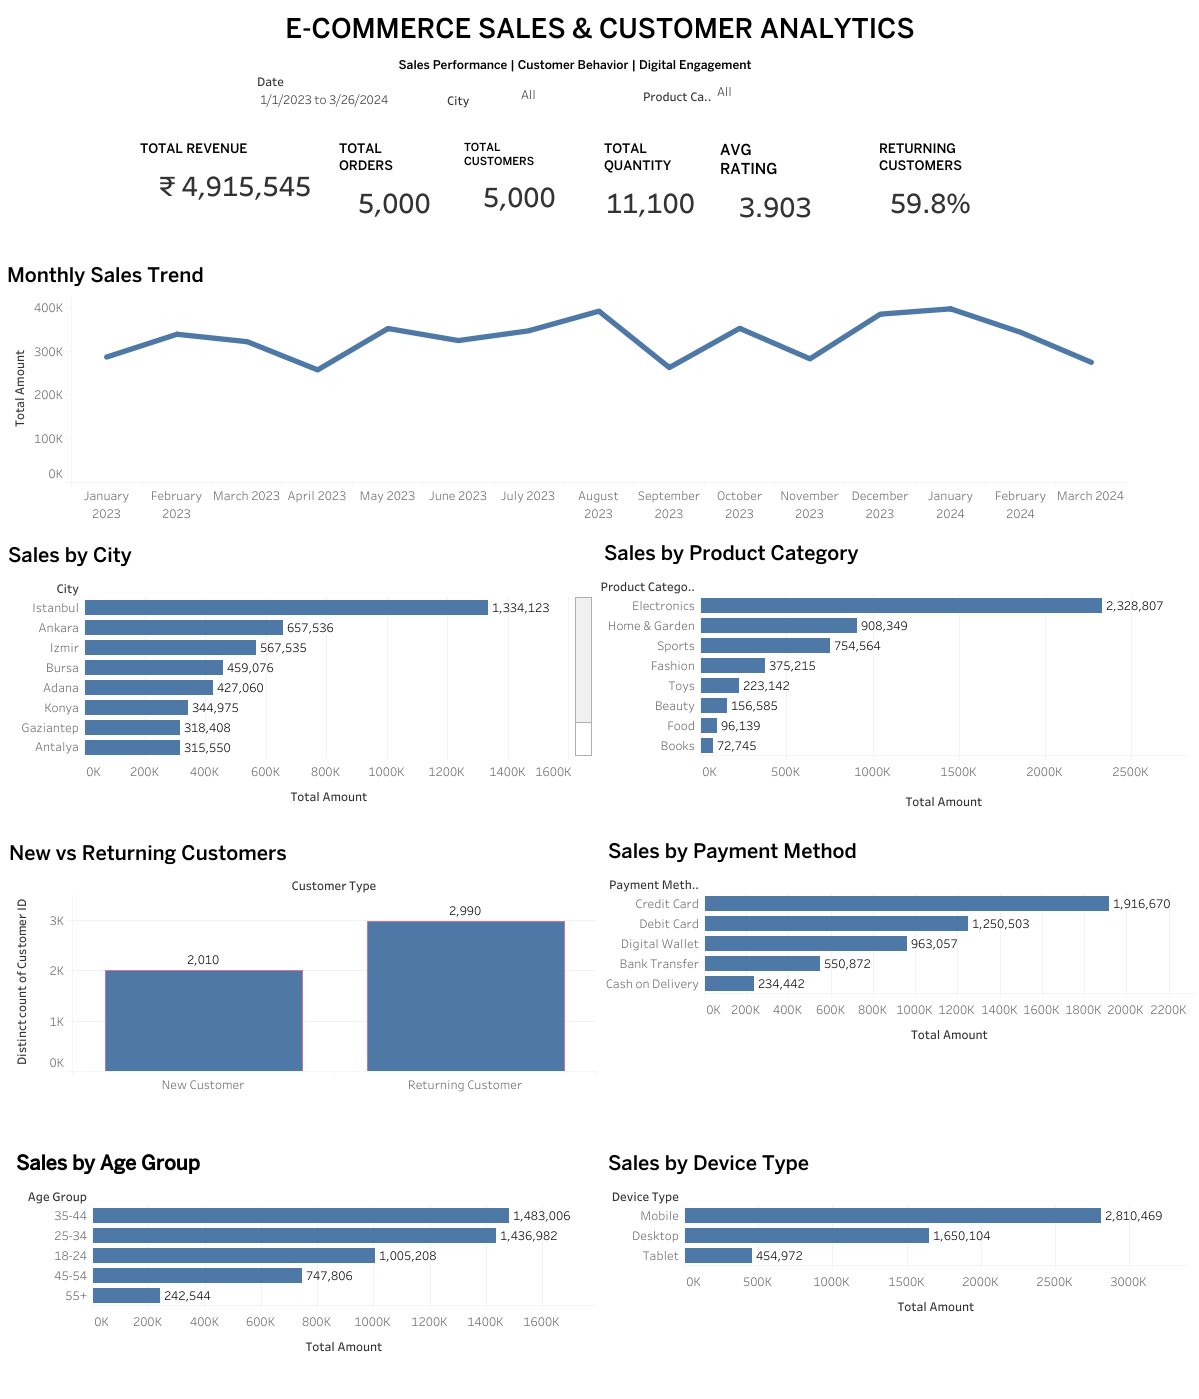

The dashboard page shown, as its layout file describes it:
{"tool":"tableau","page":{"name":"E-Commerce Analytics Dashboard","canvas":[1200,1400],"ordinal":0},"visuals":[{"type":"text","box":[8,8,1184,692]},{"type":"text","box":[388,50,374,30]},{"type":"filter","title":"Sales Trend","param":"[federated.1f35rxv1ny76gk1dlnmup026zoor].[none:Date:qk]","box":[257,71,160,60]},{"type":"filter","title":"Sales Trend","param":"[federated.1f35rxv1ny76gk1dlnmup026zoor].[none:Product_Category:nk]","box":[643,82,160,28]},{"type":"filter","title":"Sales Trend","param":"[federated.1f35rxv1ny76gk1dlnmup026zoor].[none:City:nk]","box":[447,85,160,29]},{"type":"worksheet","title":"KPI - Total Revenue","mark":"Automatic","box":[132,130,199,116]},{"type":"worksheet","title":"KPI - Total Orders","mark":"Automatic","box":[331,130,125,116]},{"type":"worksheet","title":"KPI - Total Customers","mark":"Automatic","box":[456,130,140,116]},{"type":"worksheet","title":"KPI - Total Quantity","mark":"Automatic","box":[596,130,116,116]},{"type":"worksheet","title":"KPI - Avg Rating","mark":"Automatic","box":[712,130,159,116]},{"type":"worksheet","title":"KPI - Returning Customer %","mark":"Automatic","box":[871,130,271,116]},{"type":"worksheet","title":"Sales Trend","mark":"Line","rows":["Total_Amount"],"cols":["Date"],"box":[3,255,1123,267]},{"type":"worksheet","title":"Sales by City","mark":"Automatic","rows":["City"],"cols":["Total_Amount"],"box":[0,531,596,285]},{"type":"worksheet","title":"Sales by Category","mark":"Bar","rows":["Product_Category"],"cols":["Total_Amount"],"box":[596,531,596,285]},{"type":"worksheet","title":"Customer Type Analysis","mark":"Bar","rows":["Customer_ID"],"cols":["Customer_Type"],"box":[1,829,599,286]},{"type":"worksheet","title":"Sales by Payment Method","mark":"Bar","rows":["Payment_Method"],"cols":["Total_Amount"],"box":[600,829,599,286]},{"type":"worksheet","title":"Sales by Age Group","mark":"Bar","rows":["Age_Group"],"cols":["Total_Amount"],"box":[8,1141,592,251]},{"type":"worksheet","title":"Sales by Device Type","mark":"Bar","rows":["Device_Type"],"cols":["Total_Amount"],"box":[600,1141,592,251]}]}

Visuals, with their boxes in screenshot pixels (x1, y1, x2, y2), scaled from the page's 1200x1400 canvas onto the 1199x1399 screenshot:
text: <bbox>8, 8, 1191, 700</bbox>
text: <bbox>388, 50, 761, 80</bbox>
"Sales Trend" filter: <bbox>257, 71, 417, 131</bbox>
"Sales Trend" filter: <bbox>642, 82, 802, 110</bbox>
"Sales Trend" filter: <bbox>447, 85, 606, 114</bbox>
"KPI - Total Revenue" worksheet: <bbox>132, 130, 331, 246</bbox>
"KPI - Total Orders" worksheet: <bbox>331, 130, 456, 246</bbox>
"KPI - Total Customers" worksheet: <bbox>456, 130, 596, 246</bbox>
"KPI - Total Quantity" worksheet: <bbox>596, 130, 711, 246</bbox>
"KPI - Avg Rating" worksheet: <bbox>711, 130, 870, 246</bbox>
"KPI - Returning Customer %" worksheet: <bbox>870, 130, 1141, 246</bbox>
"Sales Trend" worksheet (Line marks): <bbox>3, 255, 1125, 522</bbox>
"Sales by City" worksheet: <bbox>0, 531, 596, 815</bbox>
"Sales by Category" worksheet (Bar marks): <bbox>596, 531, 1191, 815</bbox>
"Customer Type Analysis" worksheet (Bar marks): <bbox>1, 828, 600, 1114</bbox>
"Sales by Payment Method" worksheet (Bar marks): <bbox>600, 828, 1198, 1114</bbox>
"Sales by Age Group" worksheet (Bar marks): <bbox>8, 1140, 600, 1391</bbox>
"Sales by Device Type" worksheet (Bar marks): <bbox>600, 1140, 1191, 1391</bbox>
